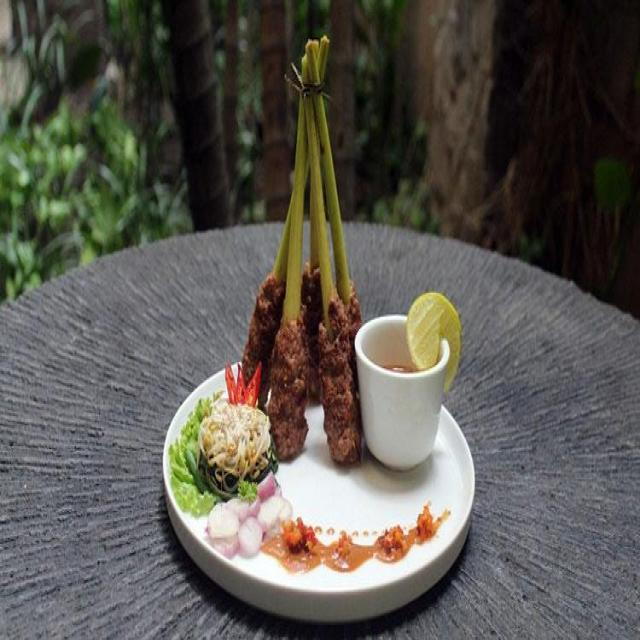Sate: (204, 59, 378, 464)
